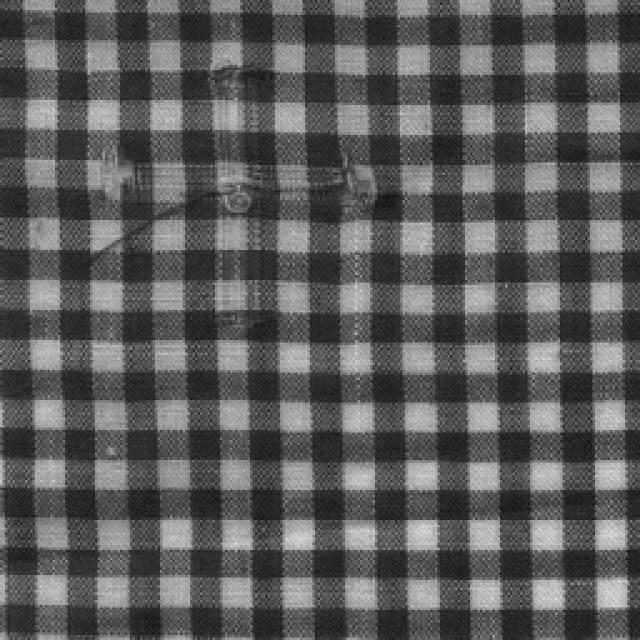defect: (67, 38, 393, 353)
